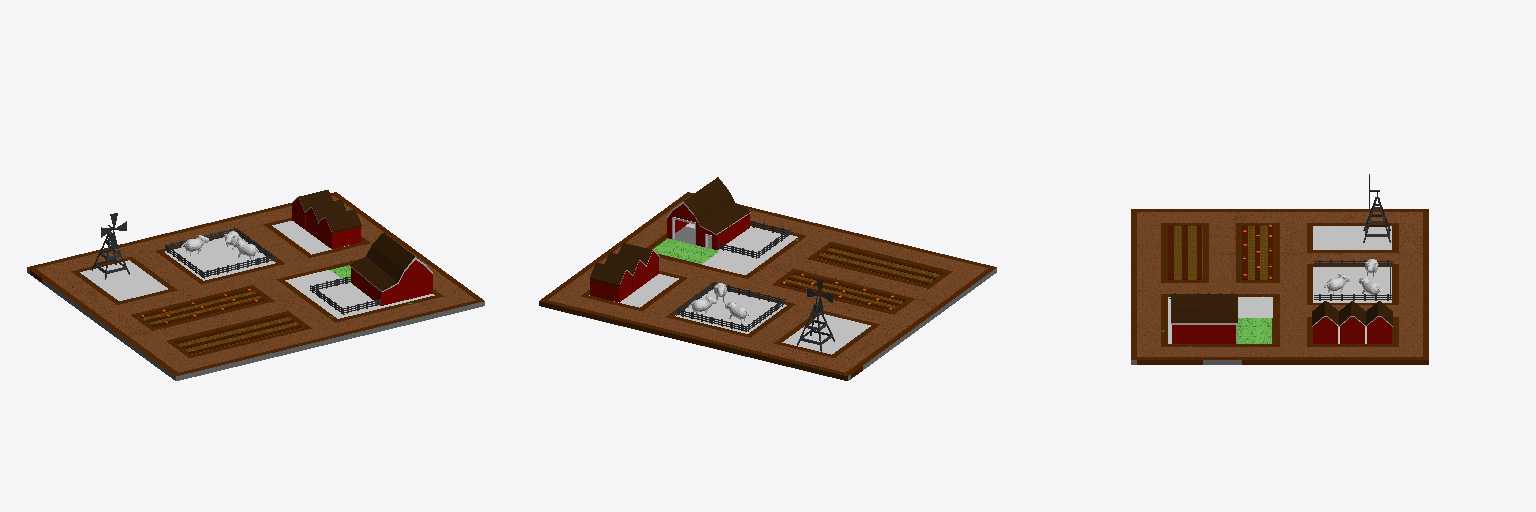
3 renders of one model, left to right at view 1: azimuth 30°, elevation 25°; view 2: azimuth 150°, elevation 25°; view 3: azimuth 270°, elevation 25°, orthographic.
Parts seen in each view (by area): view 1: granja_pCube163, granja_Granja_granja_Granja_granja_Granja_granja_Granja_granja_G, granja_pCube219, pCube5, granja_pCube211, pCube3, pCube4; view 2: granja_pCube163, granja_Granja_granja_Granja_granja_Granja_granja_Granja_granja_G, granja_pCube219, pCube3, granja_pCube211, pCube4, pCube5; view 3: granja_pCube163, granja_Granja_granja_Granja_granja_Granja_granja_Granja_granja_G, granja_pCube219, pCube4, pCube3, pCube5.
Part boxes in pixels (left/top/right/bottom): granja_pCube163: left=27, top=192, right=484, bottom=380; granja_Granja_granja_Granja_granja_Granja_granja_Granja_granja_G: left=350, top=233, right=432, bottom=305; granja_pCube219: left=140, top=289, right=302, bottom=353; pCube5: left=318, top=209, right=361, bottom=248; granja_pCube211: left=91, top=213, right=129, bottom=279; pCube3: left=292, top=190, right=332, bottom=229; pCube4: left=305, top=200, right=345, bottom=239; granja_pCube163: left=539, top=192, right=996, bottom=380; granja_Granja_granja_Granja_granja_Granja_granja_Granja_granja_G: left=666, top=177, right=750, bottom=249; granja_pCube219: left=780, top=245, right=943, bottom=310; pCube3: left=590, top=263, right=632, bottom=302; granja_pCube211: left=797, top=278, right=834, bottom=351; pCube4: left=605, top=253, right=645, bottom=292; pCube5: left=618, top=243, right=659, bottom=282; granja_pCube163: left=1131, top=209, right=1428, bottom=364; granja_Granja_granja_Granja_granja_Granja_granja_Granja_granja_G: left=1171, top=294, right=1237, bottom=343; granja_pCube219: left=1168, top=225, right=1272, bottom=279; pCube4: left=1339, top=301, right=1365, bottom=343; pCube3: left=1366, top=301, right=1392, bottom=343; pCube5: left=1312, top=301, right=1338, bottom=343.
Bounding box in the file's own units: 94.37 × 19.36 × 78.87.
13 materials, 3 textured.